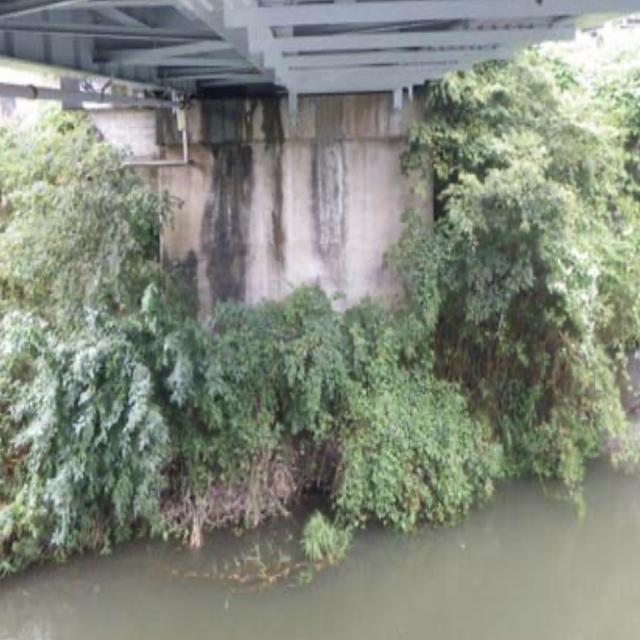leakage: (194, 80, 353, 294)
